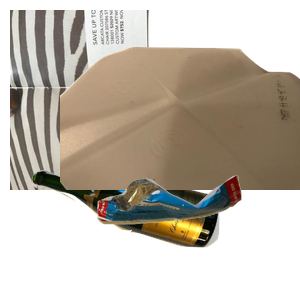glass: (29, 167, 241, 300)
paper: (10, 10, 250, 190)
plastic: (60, 44, 300, 224)
trash: (94, 173, 300, 300)
